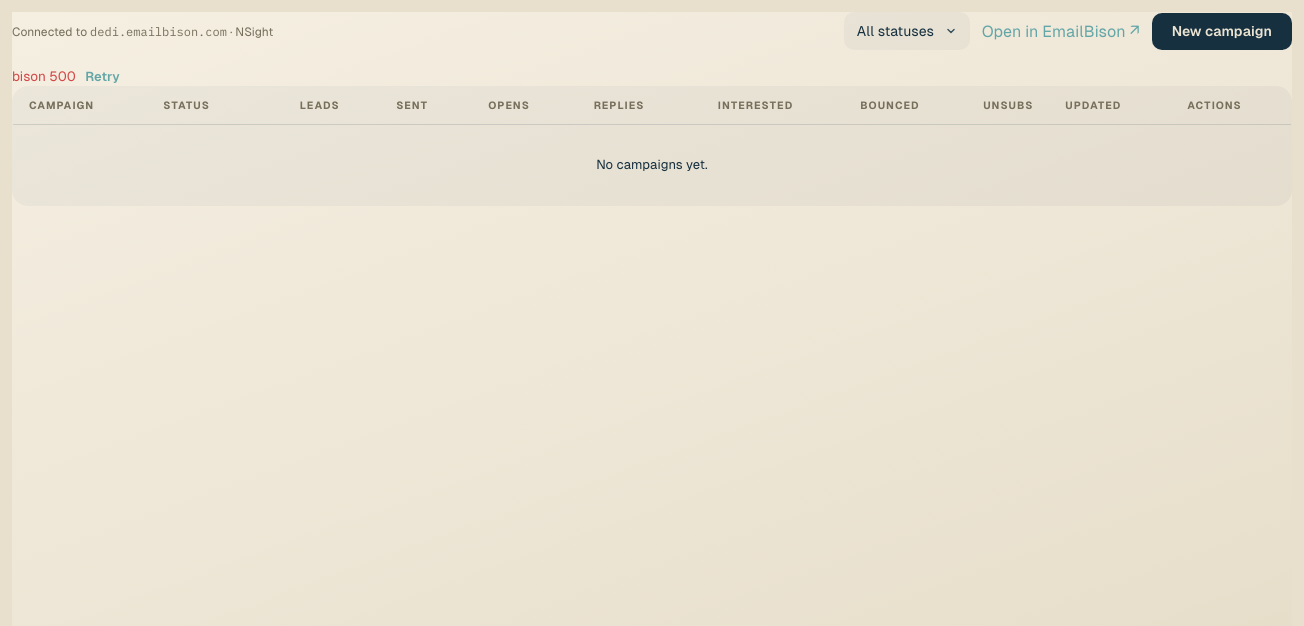
Test: EmailCenter dashboard › campaign load failure shows Retry without wiping the view; Retry recovers
Check: the text "bison 500 Retry" is shown, box [12, 68, 126, 86]
Check: the column heading "Campaign" is shown, box [13, 87, 147, 124]
Step 1. Click the button "Retry" → (103, 77), box [79, 68, 126, 86]
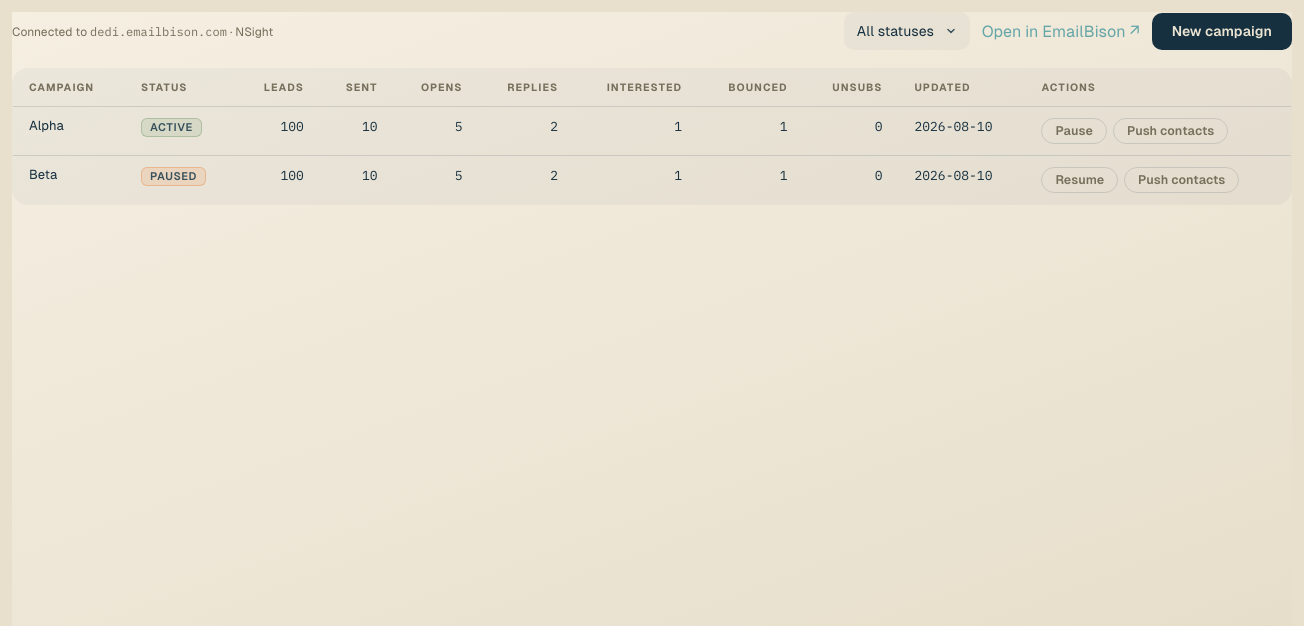
Check: the text "Alpha" is shown, box [13, 106, 125, 156]
